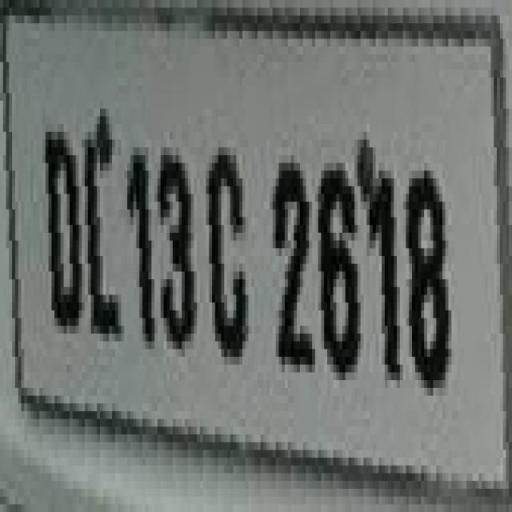number plate: (11, 16, 511, 458)
